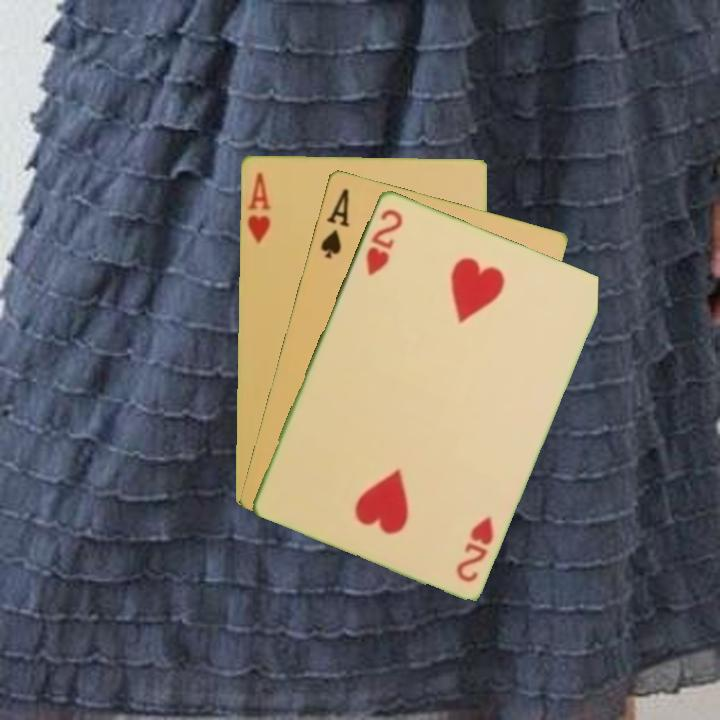2h: (362, 204, 406, 279), (452, 512, 496, 585)
Ah: (243, 169, 273, 246)
As: (316, 184, 352, 261)
